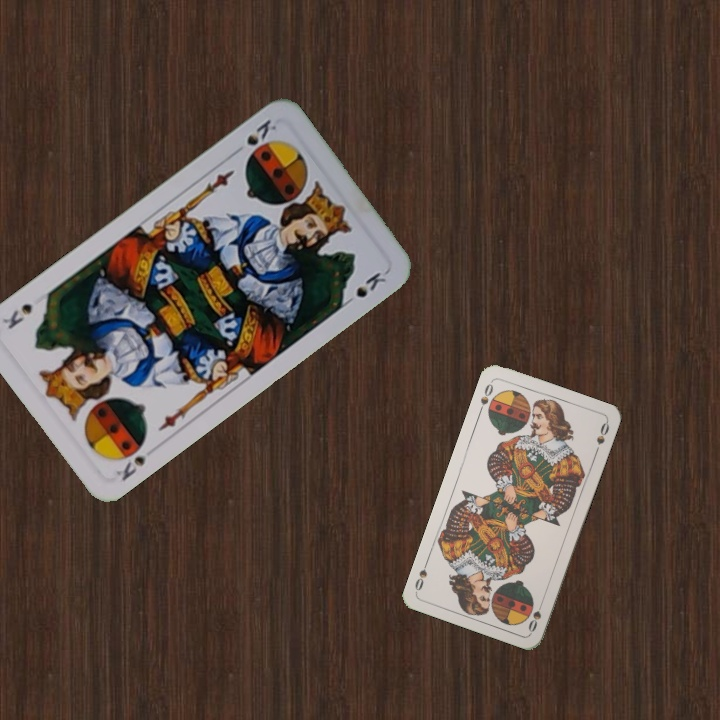SK: (242, 115, 280, 160), (112, 452, 149, 484)
SO: (524, 595, 547, 635), (475, 377, 496, 416)
